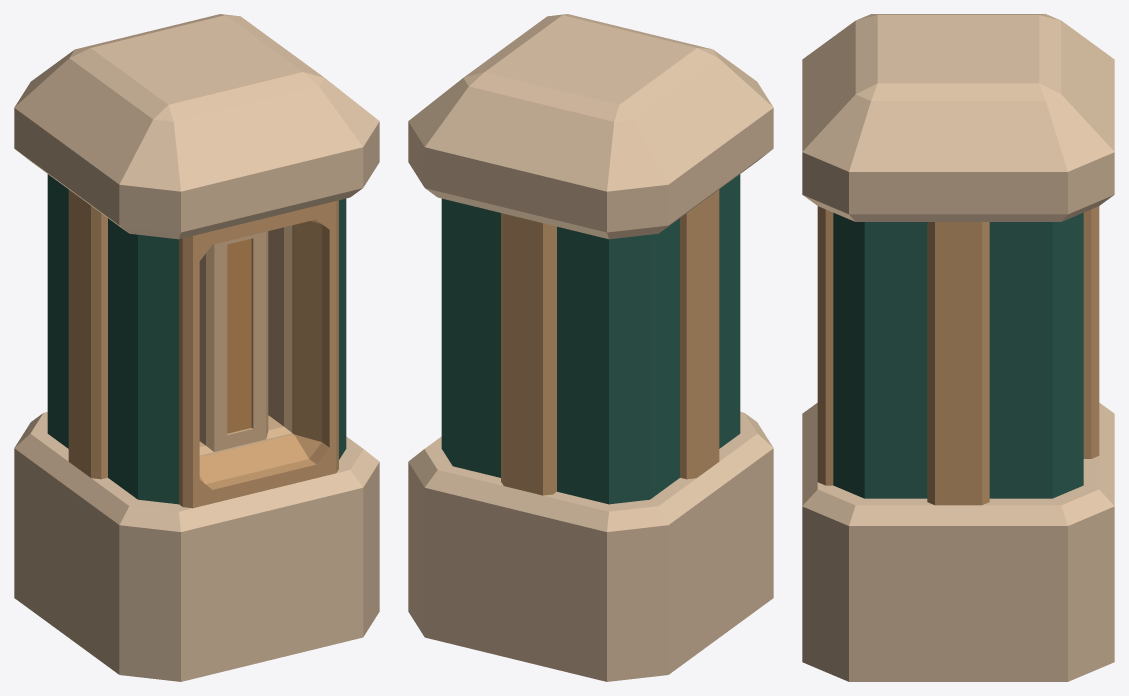
Rendered from Batterry.glb.
The picture shows the model from 3 angles, left to right: view 1: azimuth 30°, elevation 25°; view 2: azimuth 150°, elevation 25°; view 3: azimuth 270°, elevation 25°; orthographic projection. The views are drawn at different scales.
Parts seen in each view (by area): view 1: mergedBlocks(Clone); view 2: mergedBlocks(Clone); view 3: mergedBlocks(Clone).
Boxes of the visible parts, x1,y1,x2,y2 form: mergedBlocks(Clone): (14, 14, 379, 681); mergedBlocks(Clone): (408, 14, 773, 681); mergedBlocks(Clone): (802, 14, 1114, 681).
Bounding box in the file's own units: 1.5 × 3 × 1.5.
